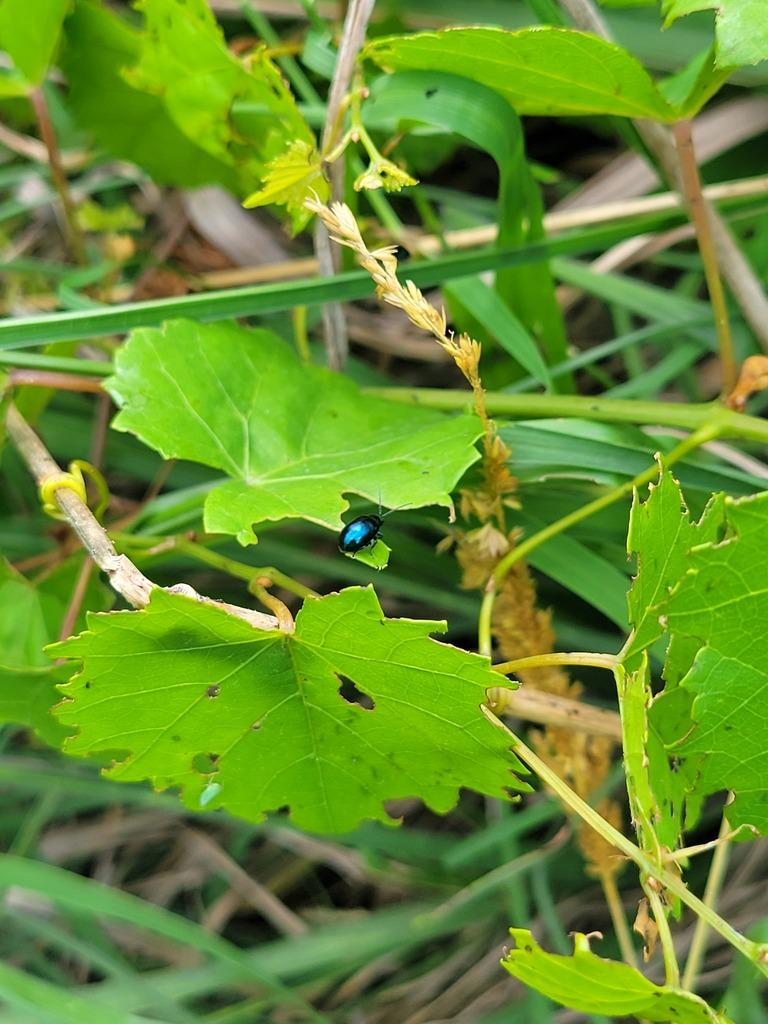flea_beetle: (317, 469, 409, 576)
